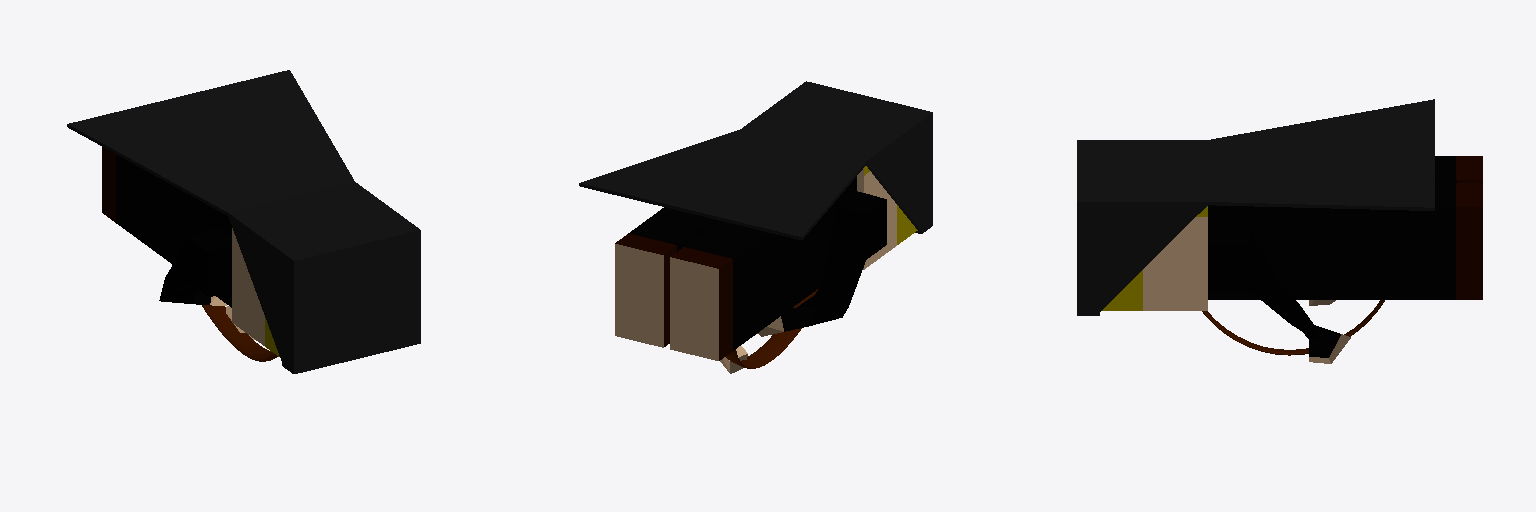
The model's file is stalker.obj.
3 views of the same model, side by side, from view 1: azimuth 30°, elevation 25°; view 2: azimuth 150°, elevation 25°; view 3: azimuth 270°, elevation 25° (orthographic).
Parts seen in each view (by area): view 1: Cube, Bow; view 2: Cube, Bow; view 3: Cube, Bow.
Boxes of the visible parts, x1,y1,x2,y2 form: Cube: [67, 70, 420, 373]; Bow: [202, 305, 277, 361]; Cube: [579, 81, 932, 373]; Bow: [726, 289, 817, 368]; Cube: [1077, 99, 1482, 363]; Bow: [1202, 300, 1384, 355].
Size of the model in its own units: 1.26 by 1.11 by 2.